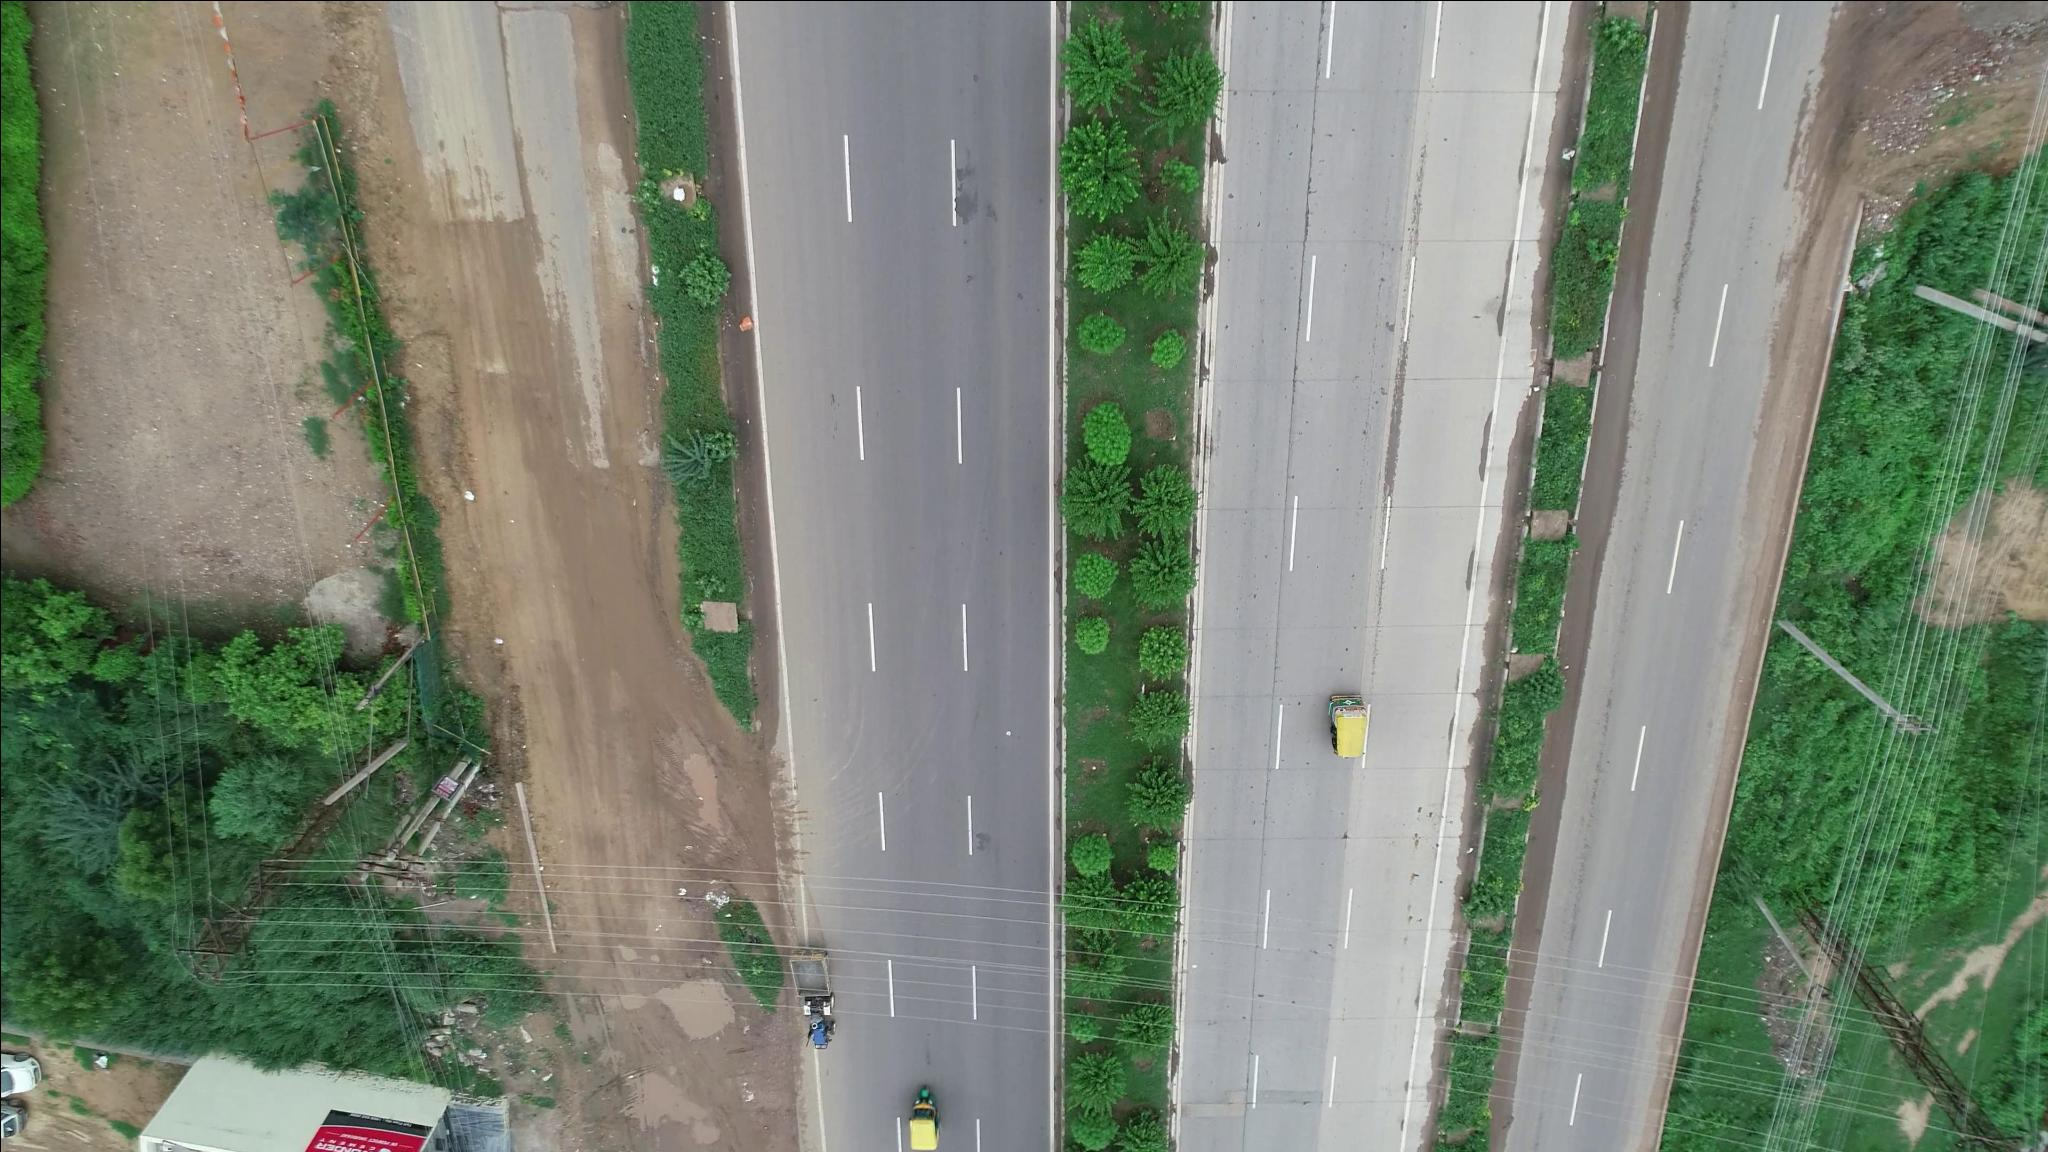Muddy_road: (489, 346, 731, 845)
